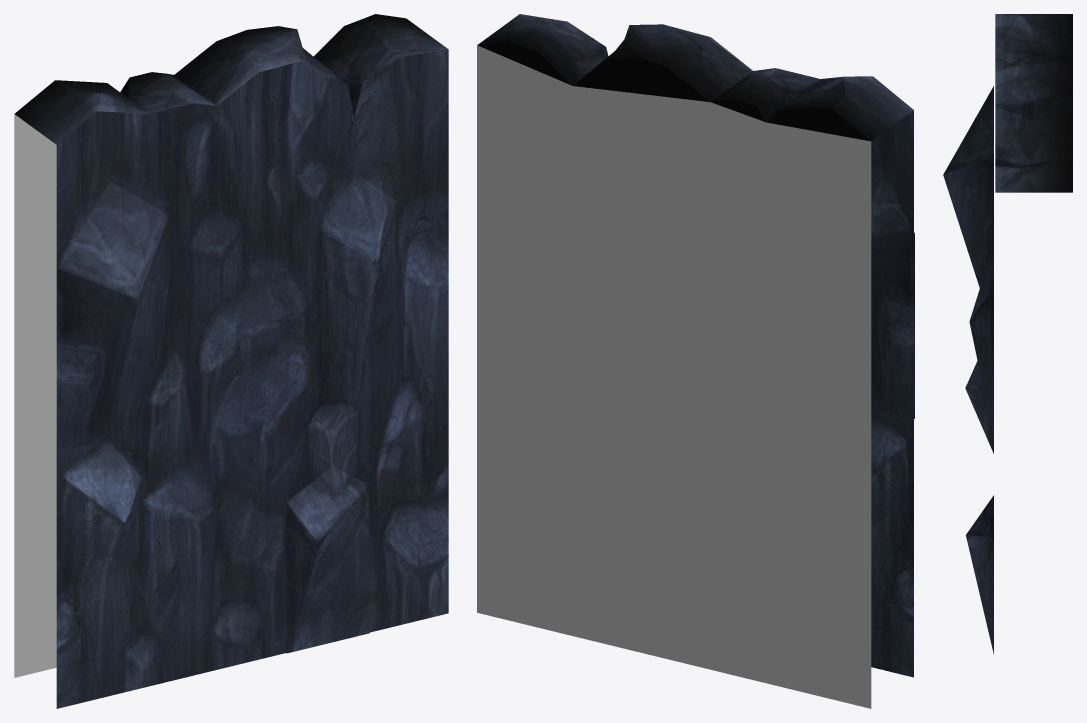
The model's file is mine_broken_fullstraight_01.fbx.
3 renders of one model, left to right at view 1: azimuth 30°, elevation 25°; view 2: azimuth 150°, elevation 25°; view 3: azimuth 270°, elevation 25°, orthographic. The views are drawn at different scales.
Parts seen in each view (by area): view 1: mine_broken_fullstraight_01-0; view 2: mine_broken_fullstraight_01-0; view 3: mine_broken_fullstraight_01-0.
Boxes of the visible parts, x1=… form: mine_broken_fullstraight_01-0: x1=14, y1=14, x2=448, y2=708; mine_broken_fullstraight_01-0: x1=477, y1=14, x2=914, y2=708; mine_broken_fullstraight_01-0: x1=943, y1=14, x2=1072, y2=654.
Bounding box in the file's own units: 4 × 5.86 × 1.25.
